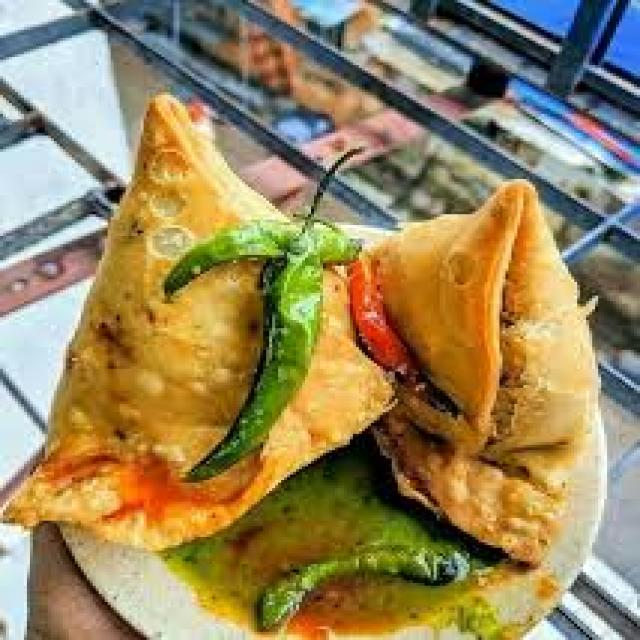SAMOSA: (5, 91, 418, 548), (345, 178, 602, 572)
